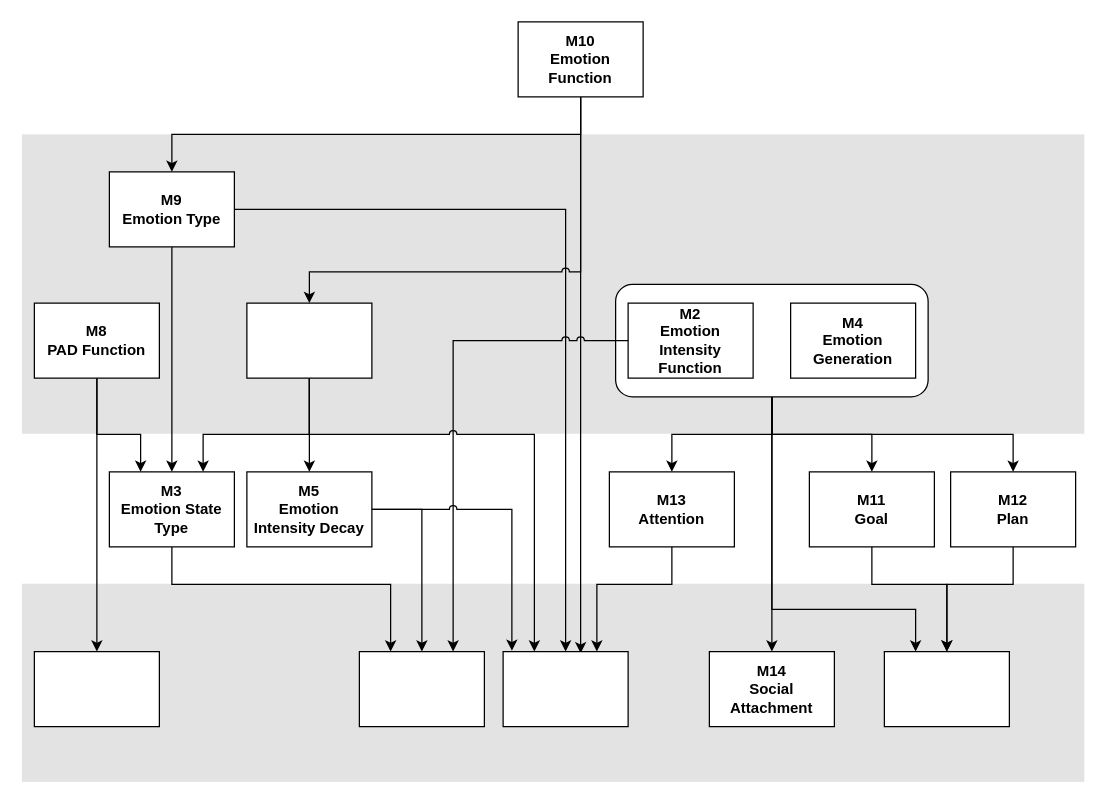
Some shapes in this 1105 by 804 pixel diagram are drawn without their labels. Each missing label, with the centre of its shape:
"M1 Emotion Intensity Type" goes at (x=421, y=688).
"M15 Time" goes at (x=565, y=688).
"M16 World State" goes at (x=946, y=688).
"M6 Emotion State Decay" goes at (x=309, y=340).
"M7 PAD Type" goes at (x=96, y=688).
